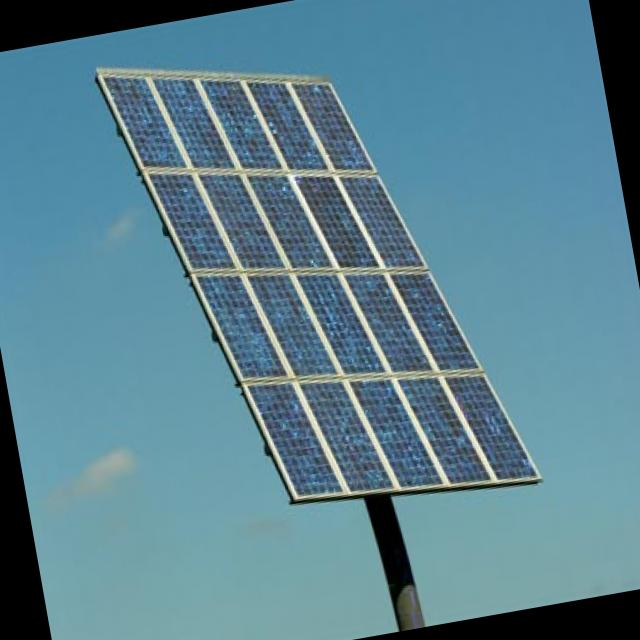faulty: (108, 78, 534, 509)
